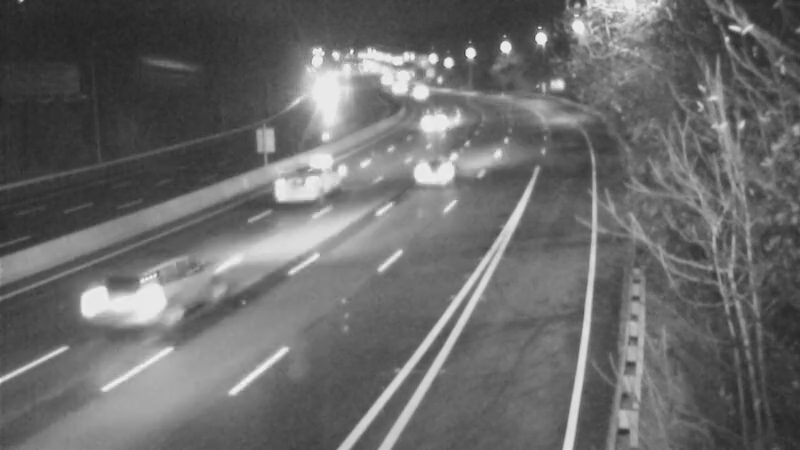vehicle: (389, 133, 469, 213), (268, 136, 348, 216), (93, 257, 173, 337), (377, 62, 427, 112), (394, 67, 444, 117), (405, 92, 455, 142), (303, 66, 353, 116)
